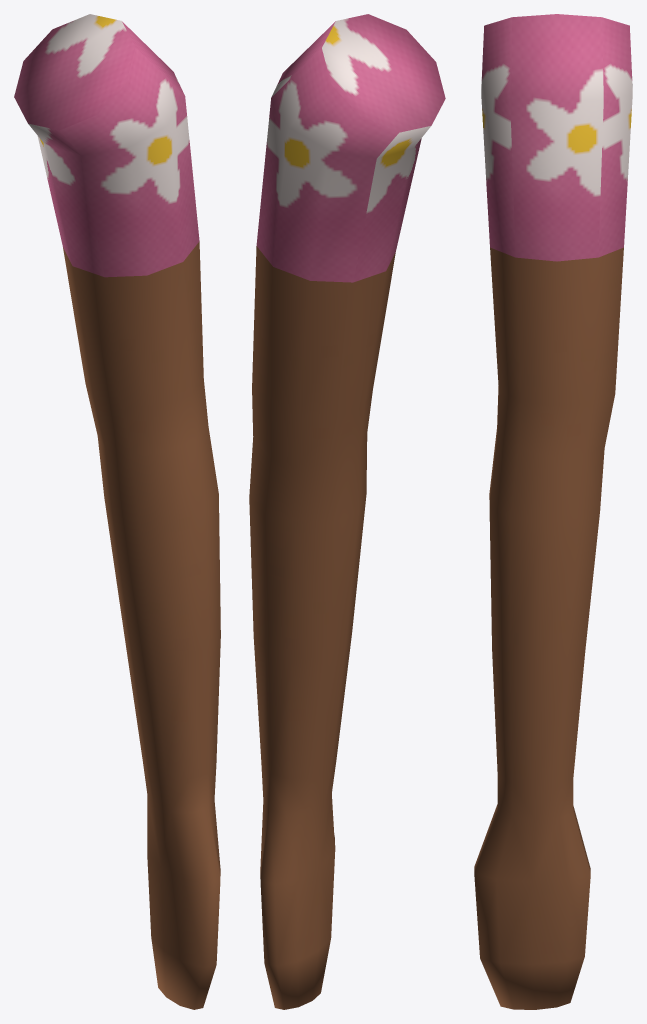
The model's file is brazoizq.obj.
The picture shows the model from 3 angles, left to right: view 1: azimuth 30°, elevation 25°; view 2: azimuth 150°, elevation 25°; view 3: azimuth 270°, elevation 25°; orthographic projection. The views are drawn at different scales.
Parts seen in each view (by area): view 1: BrazoIzq; view 2: BrazoIzq; view 3: BrazoIzq.
Boxes of the visible parts, x1,y1,x2,y2 form: BrazoIzq: (14,14,220,1009); BrazoIzq: (249,14,445,1009); BrazoIzq: (474,14,632,1009).
Size of the model in its own units: 0.0831 by 0.439 by 0.0652.
2 materials, 2 textured.
